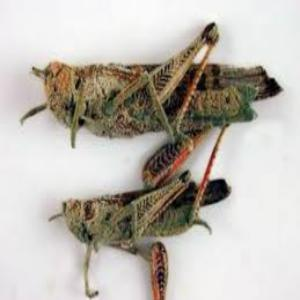locust: (48, 165, 234, 292), (37, 46, 282, 126)
